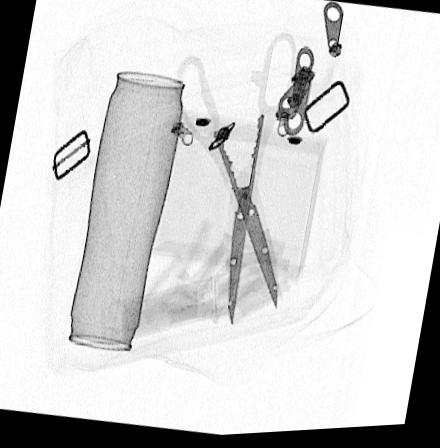Scissors: (174, 34, 298, 329)
